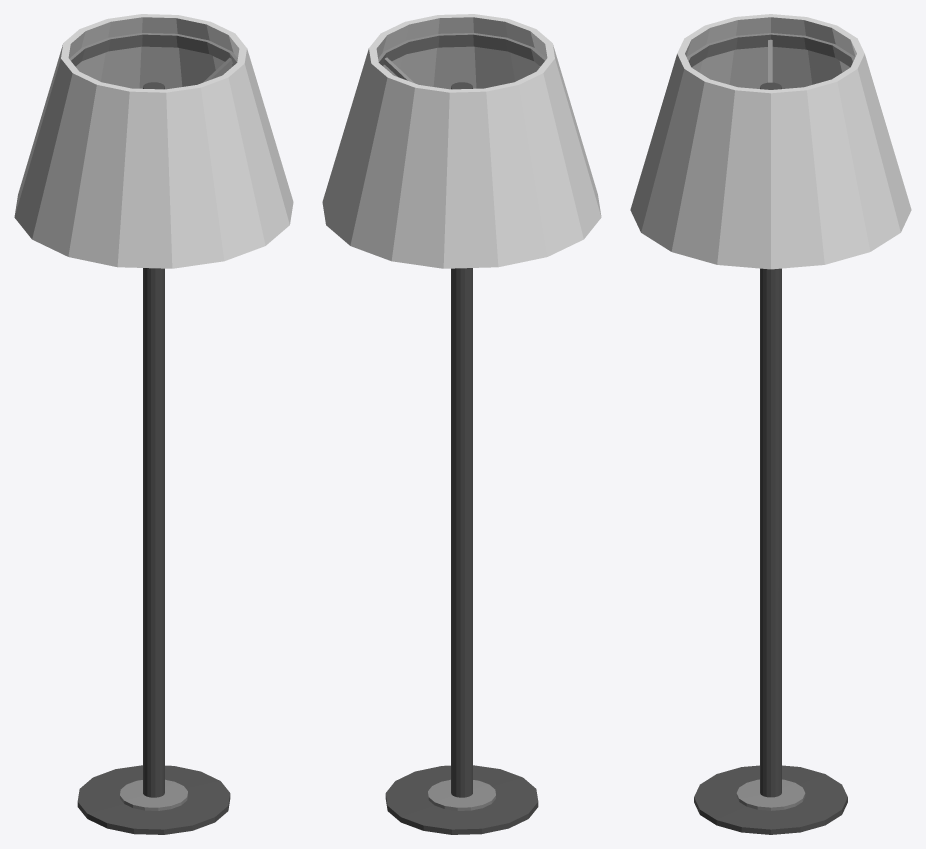
The model's file is Lantern.fbx.
3 views of the same model, side by side, from view 1: azimuth 30°, elevation 25°; view 2: azimuth 150°, elevation 25°; view 3: azimuth 270°, elevation 25° (orthographic).
Visible parts, largest first — view 1: Cylinder.001; view 2: Cylinder.001; view 3: Cylinder.001.
Part boxes in pixels (box(x1,y1,x2,y2)): Cylinder.001: box(14, 14, 293, 834); Cylinder.001: box(322, 14, 601, 834); Cylinder.001: box(630, 14, 911, 834).
Size of the model in its own units: 167 by 490 by 167.
Materials: 1 (1 with a texture image).
